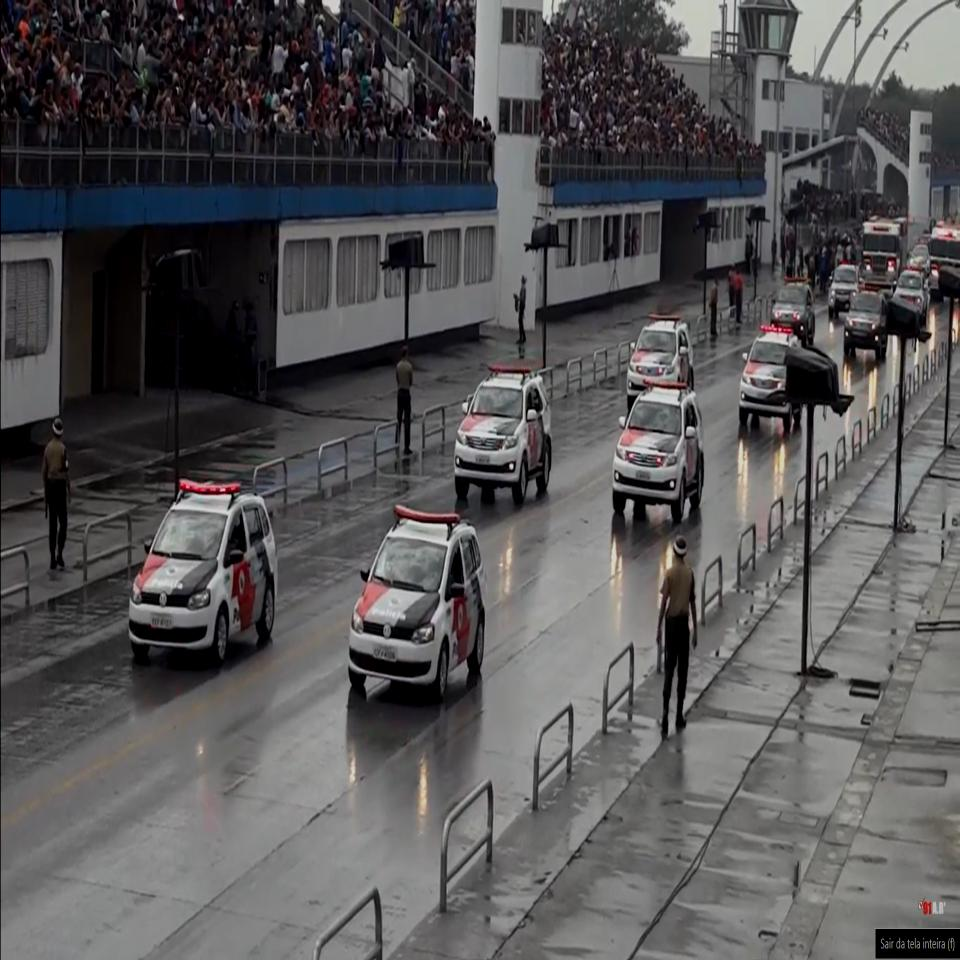viatura: (126, 473, 282, 670), (347, 498, 489, 704), (454, 359, 553, 504), (610, 376, 706, 519)
